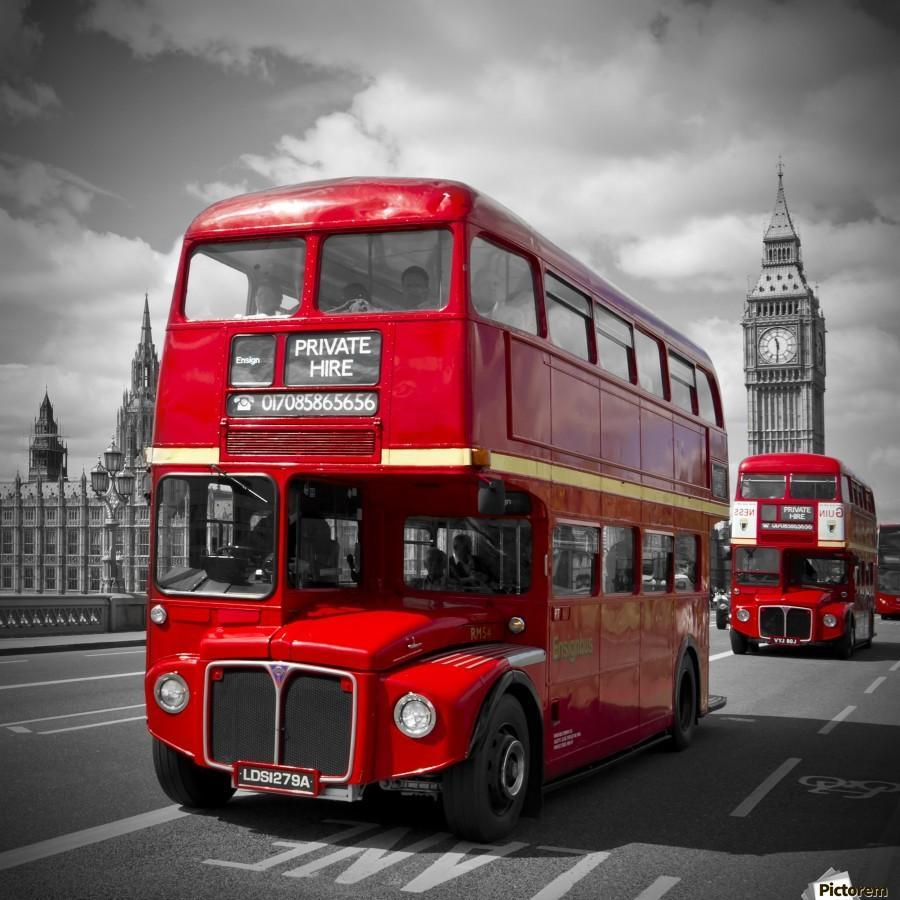Bus: (143, 177, 732, 845)
